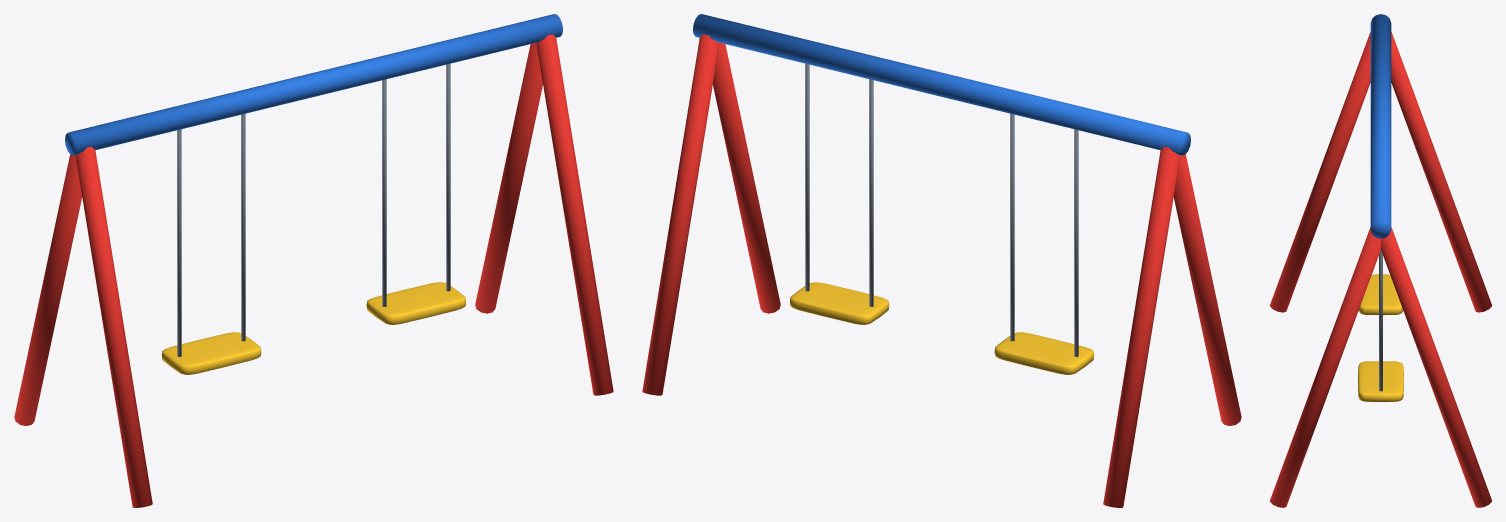
The model's file is swing_set.glb.
3 views of the same model, side by side, from view 1: azimuth 30°, elevation 25°; view 2: azimuth 150°, elevation 25°; view 3: azimuth 270°, elevation 25° (orthographic). The views are drawn at different scales.
Visible parts, largest first — view 1: Body; view 2: Body; view 3: Body.
Boxes of the visible parts, x1,y1,x2,y2 form: Body: (14,14,613,507); Body: (642,14,1241,507); Body: (1270,14,1491,507).
Bounding box in the file's own units: 3.8 × 2.5 × 1.73.
